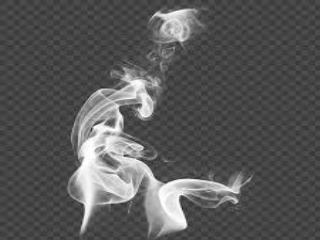smoke: (58, 7, 256, 233)
